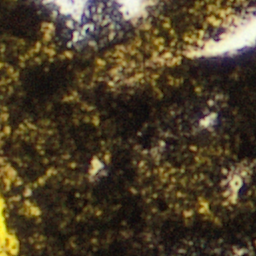cement_matrix: (0, 0, 255, 255), (226, 171, 243, 200), (156, 53, 175, 62), (201, 115, 213, 127), (91, 160, 101, 173), (5, 169, 13, 179), (29, 207, 34, 211)
cracks: (0, 196, 17, 255)
gravel_crushed_stones: (185, 8, 255, 57), (41, 0, 90, 40), (110, 0, 157, 21), (227, 172, 242, 199), (157, 54, 174, 61), (202, 116, 212, 126), (92, 161, 100, 172), (6, 170, 12, 178), (30, 208, 33, 210)
